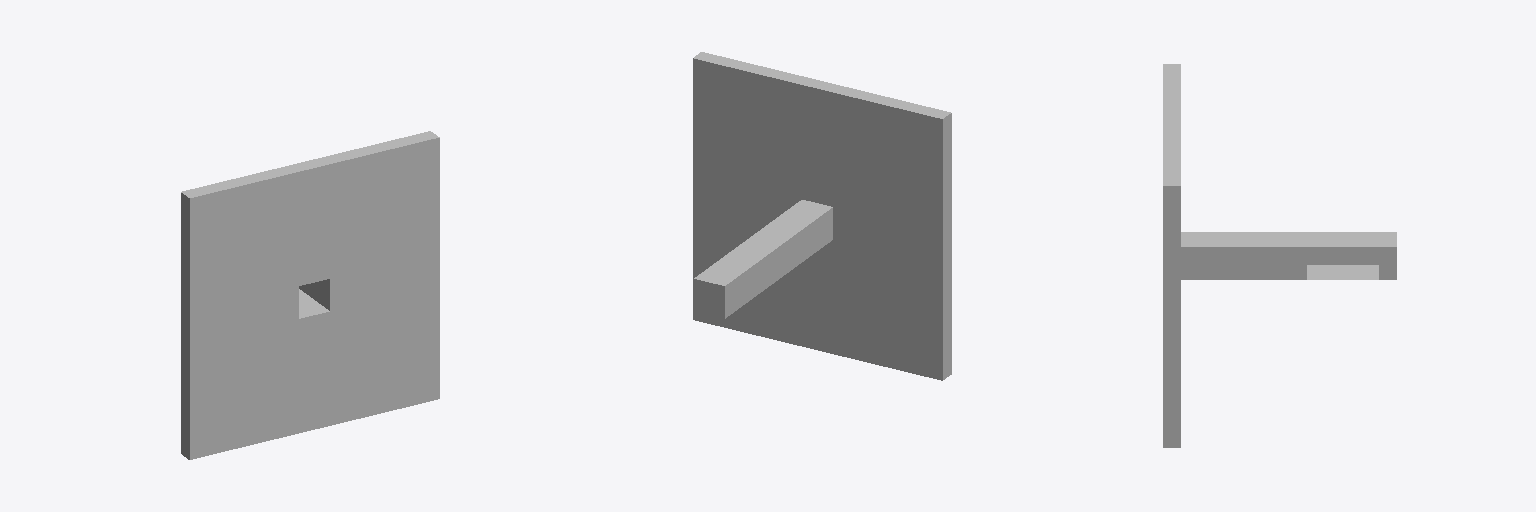
Rendered from Left.obj.
3 renders of one model, left to right at view 1: azimuth 30°, elevation 25°; view 2: azimuth 150°, elevation 25°; view 3: azimuth 270°, elevation 25°, orthographic.
Parts seen in each view (by area): view 1: Left; view 2: Left; view 3: Left.
Part boxes in pixels (bbox=[...]): Left: bbox=[181, 131, 439, 459]; Left: bbox=[693, 52, 951, 380]; Left: bbox=[1163, 64, 1396, 447].
Size of the model in its own units: 16 by 16.01 by 13.